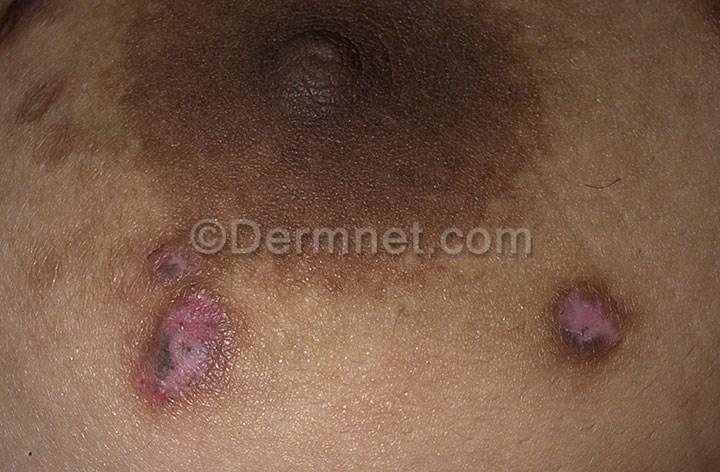Eczema: (531, 258, 650, 383), (123, 297, 233, 407), (128, 216, 206, 295)
